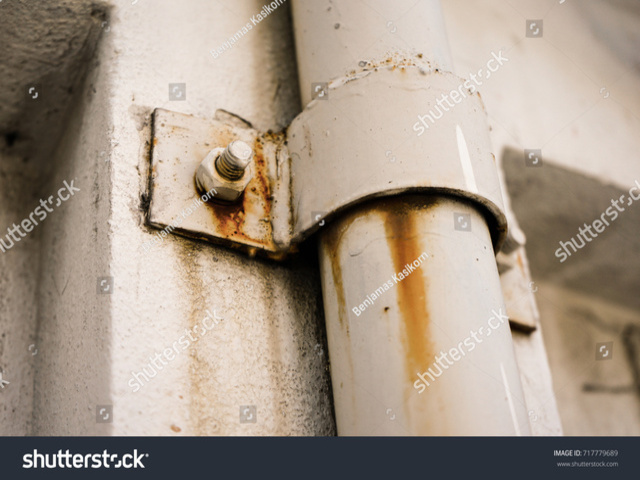Low: (314, 220, 446, 383)
Moderate: (155, 109, 285, 259)
